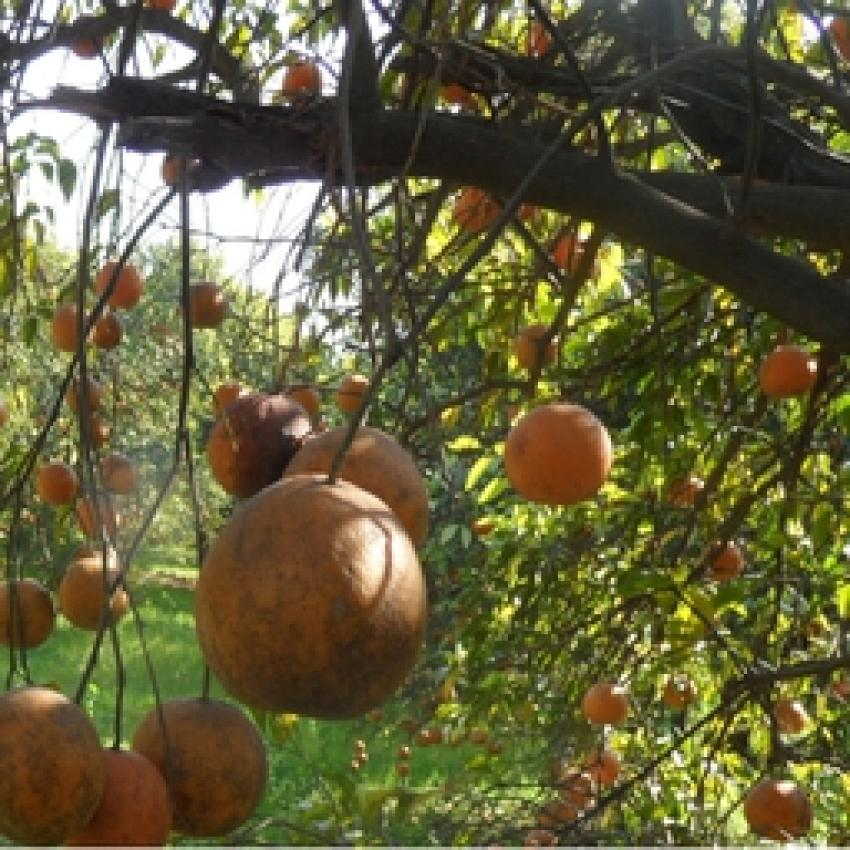Mal estado: (176, 470, 432, 731), (272, 426, 479, 574), (129, 695, 286, 825), (0, 686, 115, 839), (197, 384, 316, 503), (82, 746, 186, 838)
